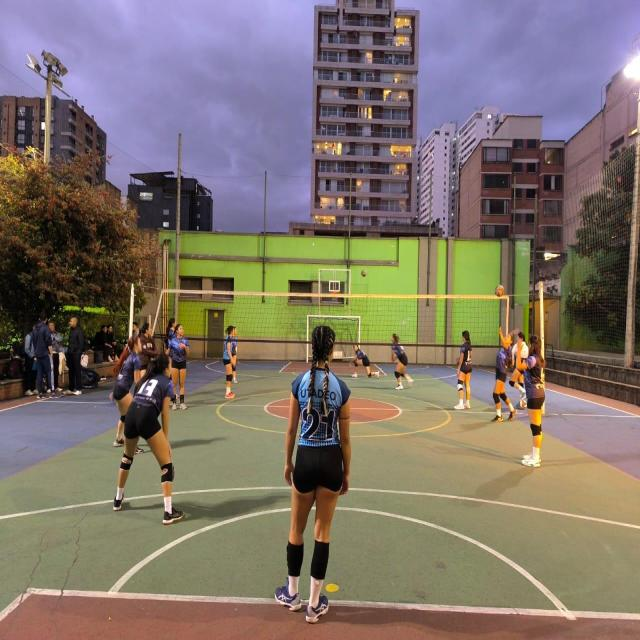volleyball: (495, 285, 504, 297), (519, 399, 527, 409)
